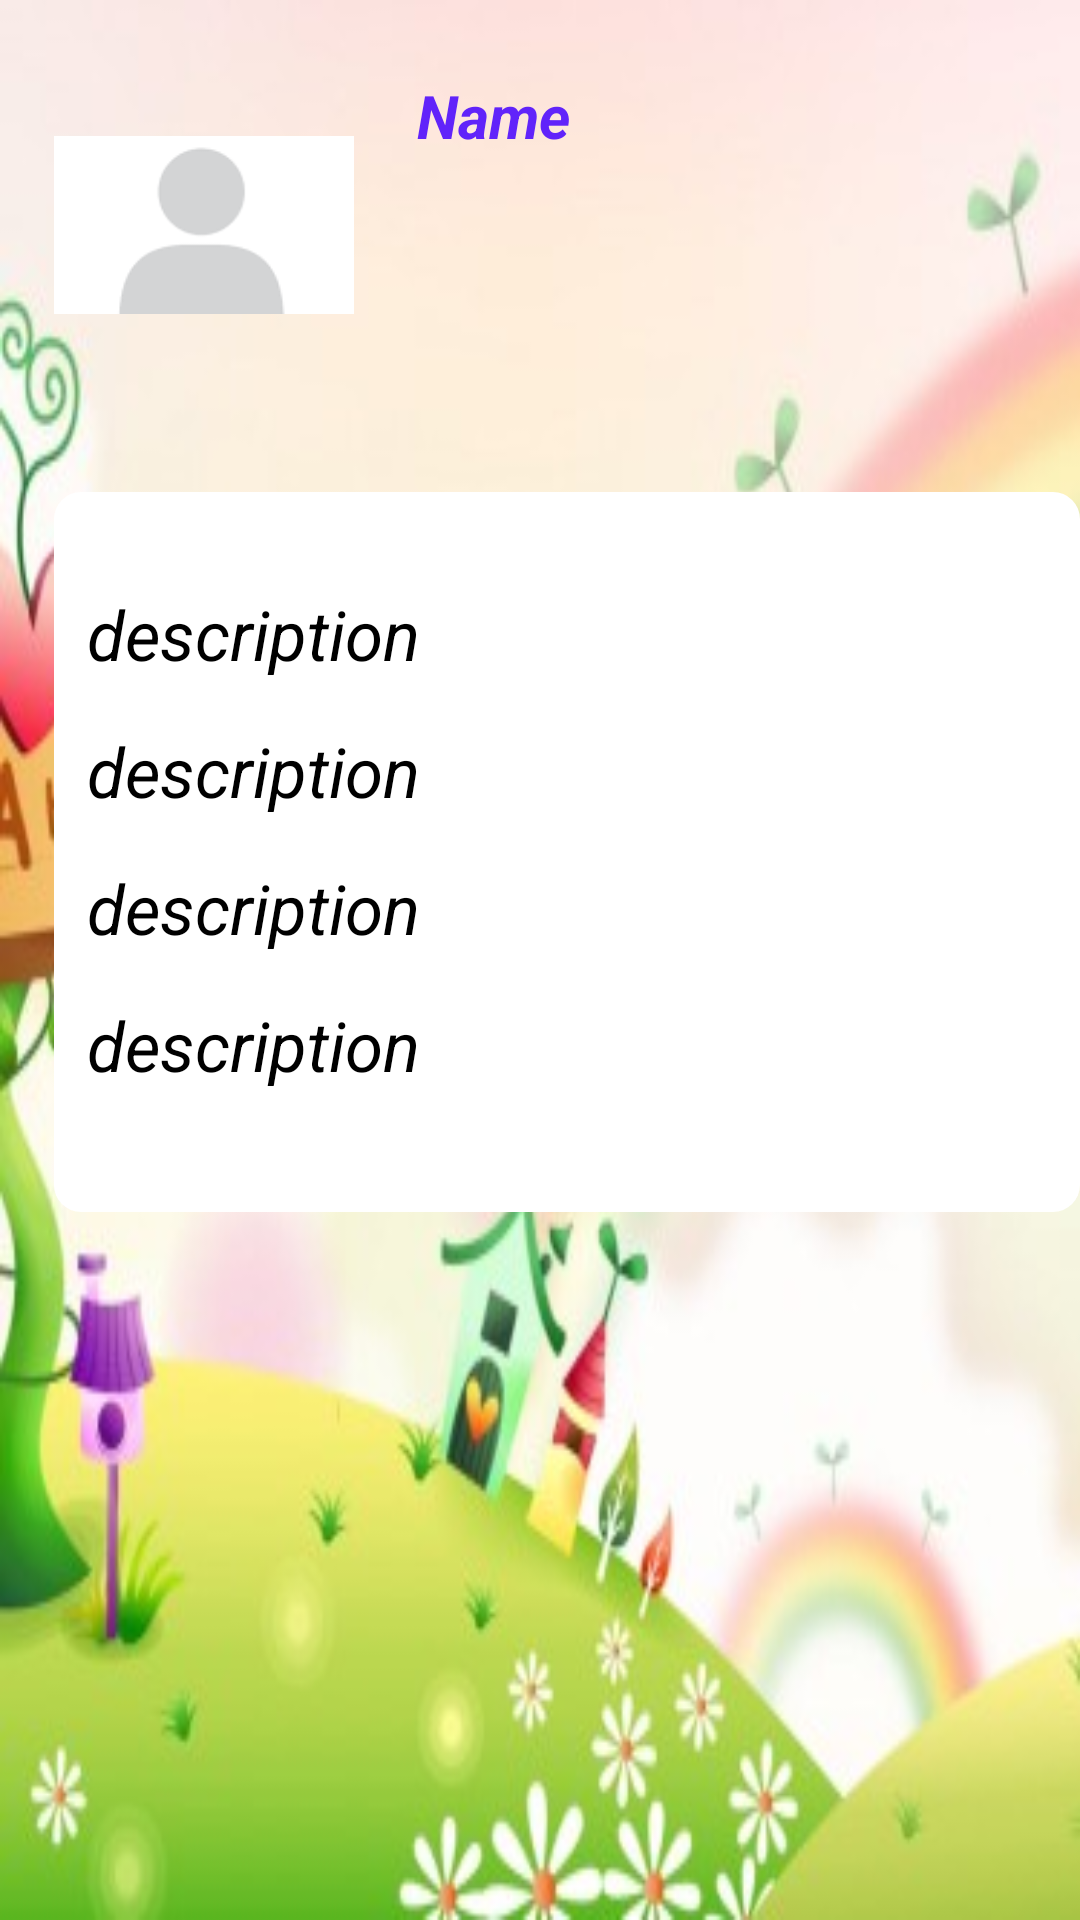

Where icons sit on this 1080w x 1920h app screen, as Rect(x1, y1, x2, y2):
anonymous: Rect(54, 136, 354, 314)
